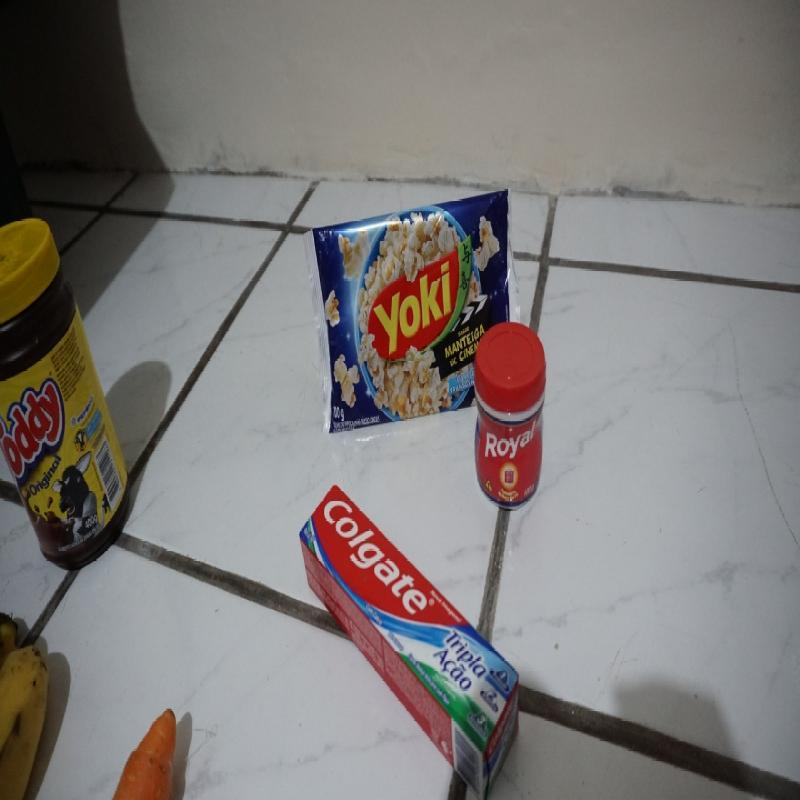Banana: (2, 606, 50, 792)
Carrot: (110, 689, 190, 798)
Chocolate Powder: (0, 219, 132, 565)
Popcorn: (305, 212, 467, 421)
Toothpaste: (291, 489, 522, 794)
Yeast: (472, 328, 546, 484)
